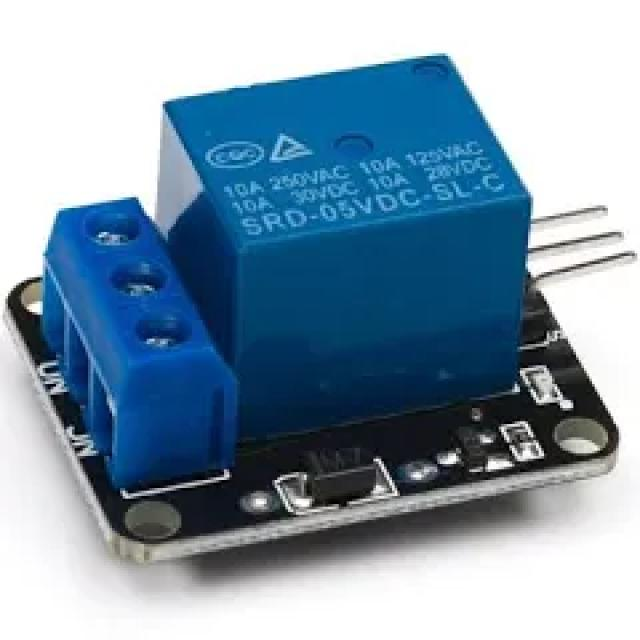Relay: (37, 53, 616, 565)
